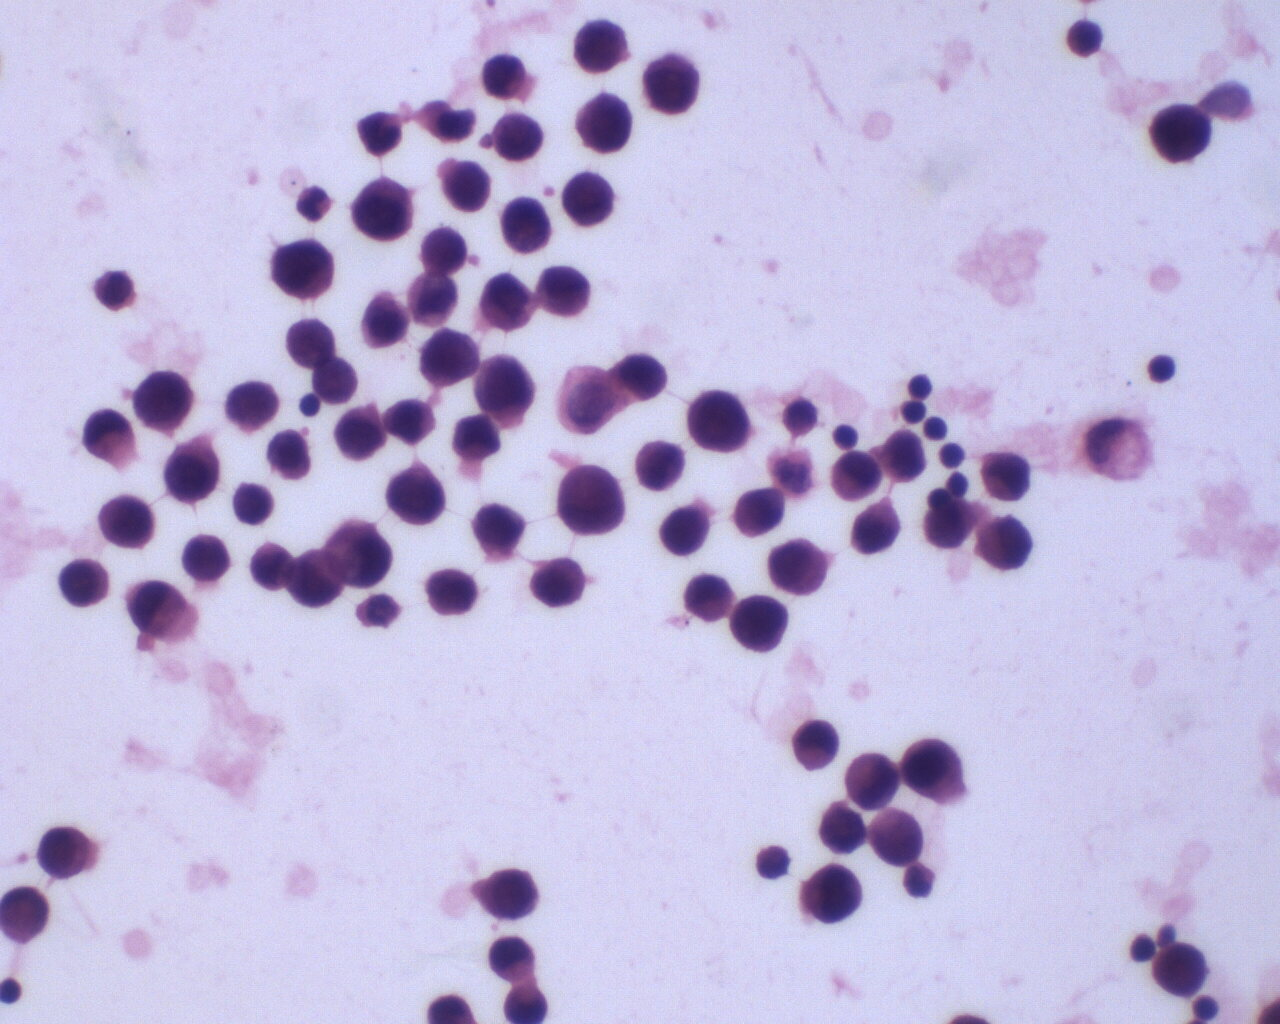ab: (553, 461, 630, 539), (1142, 98, 1218, 171), (684, 386, 751, 453), (285, 539, 344, 615), (134, 368, 197, 438), (269, 237, 338, 301), (474, 352, 535, 424), (902, 736, 969, 800), (351, 176, 415, 242), (162, 437, 224, 506), (800, 863, 865, 927), (386, 463, 449, 528), (643, 50, 702, 119), (574, 89, 635, 153), (433, 155, 496, 216), (419, 328, 481, 391), (766, 534, 831, 594), (727, 594, 790, 654), (1151, 940, 1215, 1000), (478, 270, 536, 334), (99, 491, 159, 553), (355, 287, 410, 354), (976, 513, 1035, 574), (865, 807, 926, 865), (562, 168, 619, 231), (481, 865, 541, 923), (531, 555, 587, 613), (848, 496, 903, 556), (534, 262, 594, 317), (36, 827, 94, 881), (573, 15, 626, 74), (844, 752, 899, 809), (732, 486, 790, 539), (981, 448, 1035, 504), (56, 555, 112, 609), (335, 406, 387, 464), (657, 503, 711, 557), (636, 439, 688, 495), (386, 393, 439, 446), (493, 108, 544, 163), (827, 449, 881, 501), (181, 530, 232, 584), (423, 566, 478, 615), (881, 425, 926, 483), (479, 54, 531, 103), (504, 983, 550, 1024)
histo: (1081, 414, 1151, 481)
lymph: (1145, 351, 1178, 385), (906, 373, 937, 400)
neutro: (292, 180, 338, 227)
